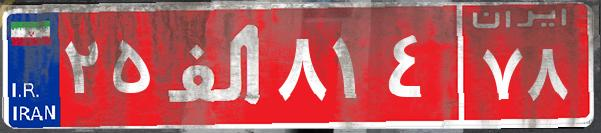1: (330, 28, 385, 110)
2: (57, 26, 110, 107)
4: (385, 28, 445, 110)
5: (110, 28, 158, 105)
7: (475, 38, 525, 113)
8: (273, 28, 330, 110), (525, 38, 570, 115)
الف: (158, 15, 273, 115)
